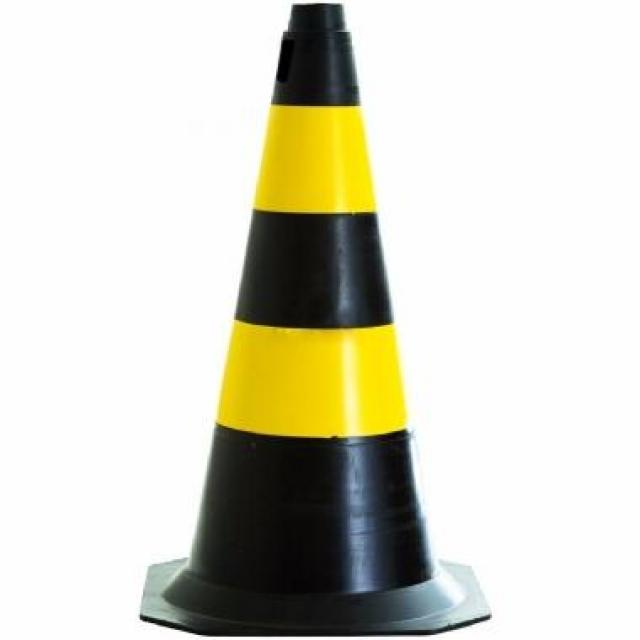cone: (62, 0, 525, 633)
